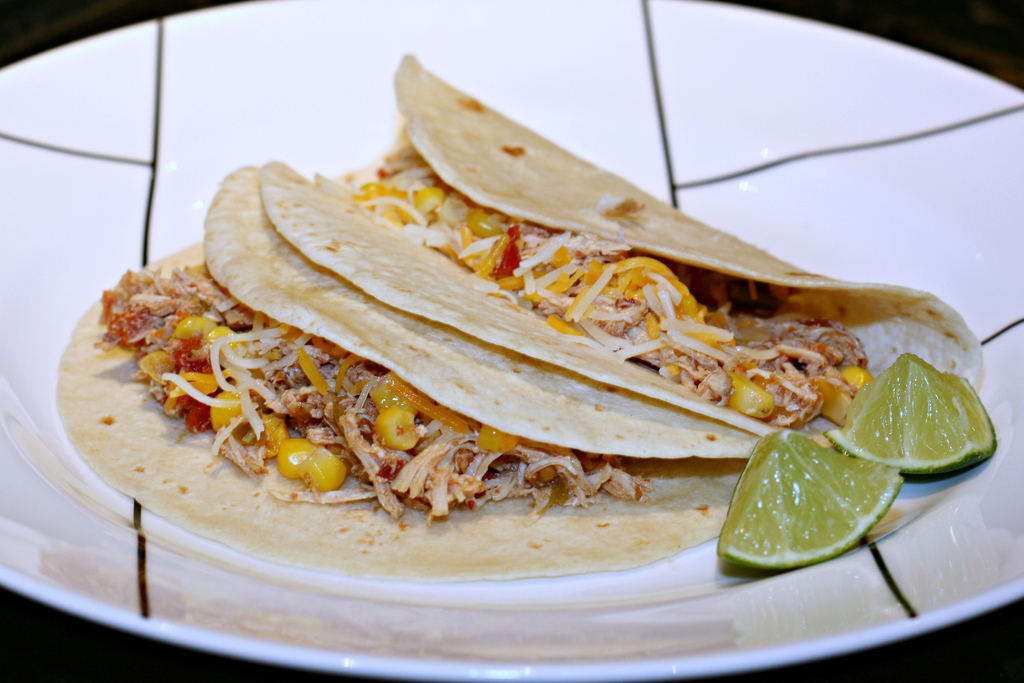taco: (289, 53, 990, 479), (56, 165, 765, 585)
